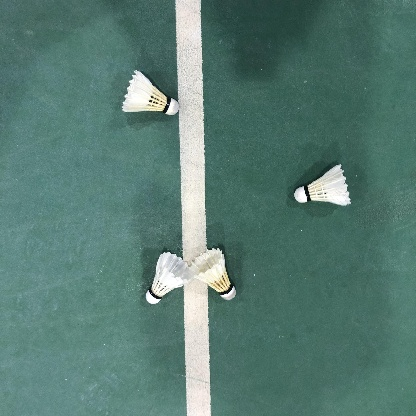ball_single: (122, 70, 179, 115), (189, 247, 236, 300), (294, 163, 351, 206), (146, 252, 192, 304)
